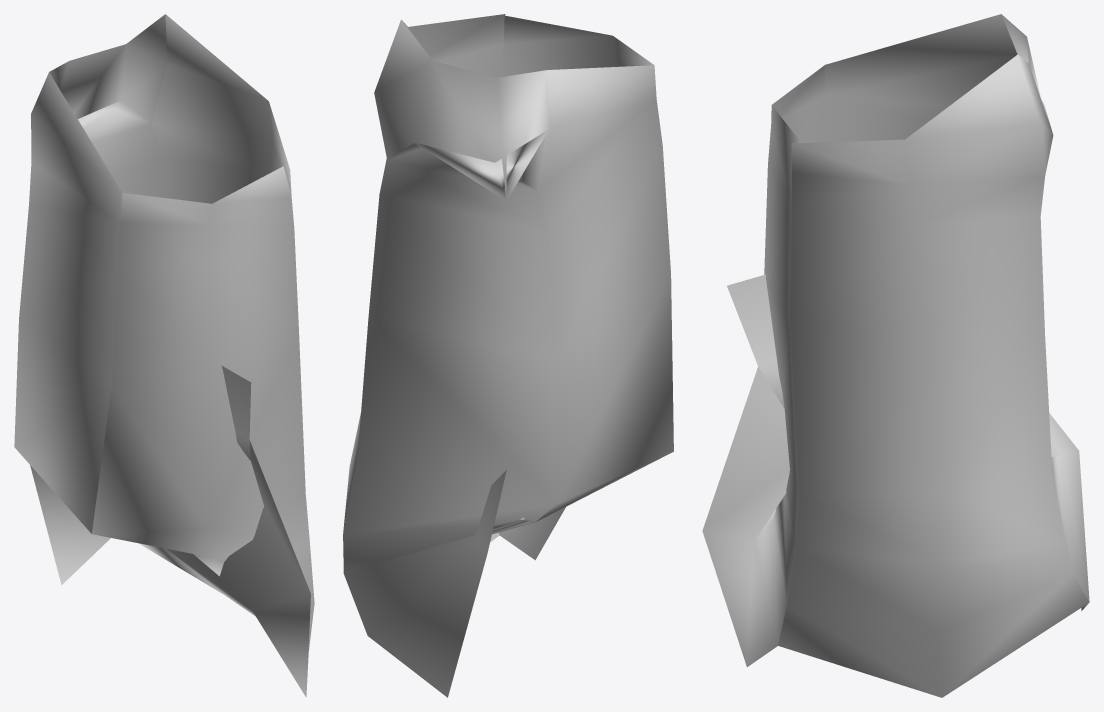
The model's file is right_arm.glb.
The picture shows the model from 3 angles, left to right: view 1: azimuth 30°, elevation 25°; view 2: azimuth 150°, elevation 25°; view 3: azimuth 270°, elevation 25°; orthographic projection. The views are drawn at different scales.
Parts seen in each view (by area): view 1: sweater-white_RIGHT_ARM; view 2: sweater-white_RIGHT_ARM; view 3: sweater-white_RIGHT_ARM.
Part boxes in pixels (<box>): sweater-white_RIGHT_ARM: <box>14,14,314,697</box>; sweater-white_RIGHT_ARM: <box>343,14,673,697</box>; sweater-white_RIGHT_ARM: <box>702,14,1089,697</box>.
Size of the model in its own units: 0.1396 by 0.3239 by 0.1853.
Materials: 1 (1 with a texture image).
